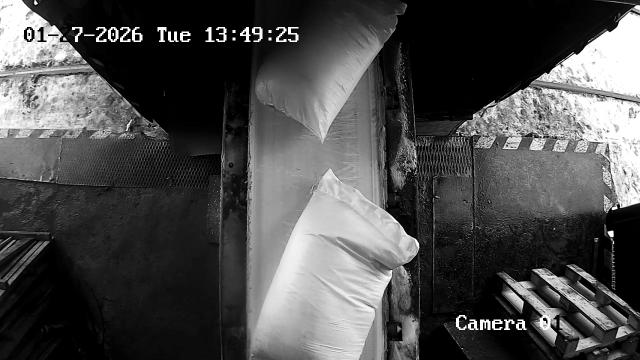bag: (250, 168, 420, 360), (255, 0, 407, 142)
